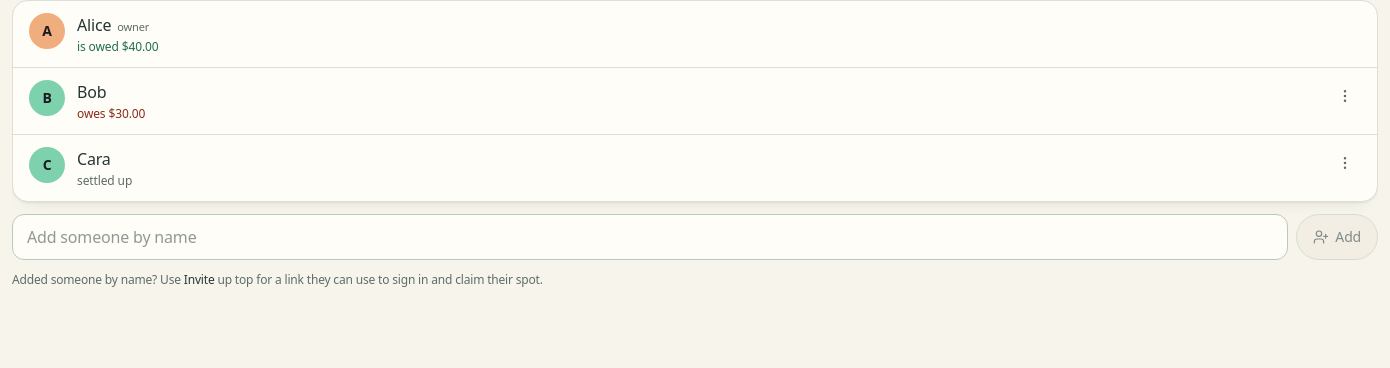
who can be removed › offers a plain member their own handles and no way to remove anyone
The width and height of the screenshot is (1390, 368).
Click the button named "Options for Cara": (1345, 163) x1=1329 y1=147 x2=1361 y2=179
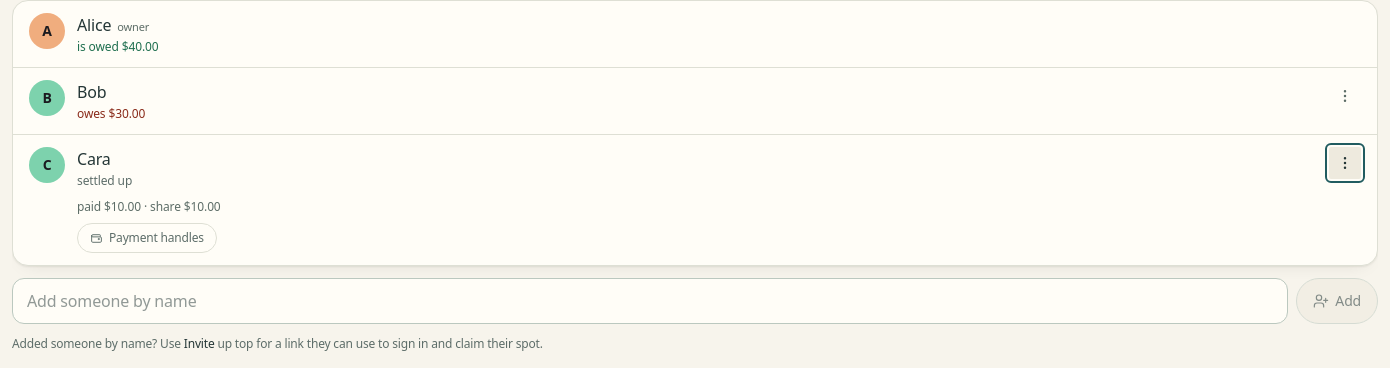
Check: the button "Payment handles" is shown, box x1=77 y1=223 x2=217 y2=253
